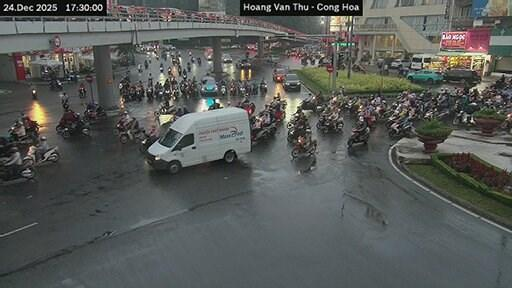motorbike: (0, 161, 35, 183), (22, 145, 57, 166), (291, 136, 315, 156), (60, 120, 89, 136), (348, 126, 368, 147), (252, 122, 275, 140), (118, 129, 144, 143), (387, 121, 410, 136), (287, 126, 307, 142), (316, 117, 342, 129), (138, 136, 156, 152), (236, 102, 255, 116), (451, 112, 473, 124), (83, 108, 105, 120), (384, 113, 399, 127), (112, 120, 125, 135), (501, 112, 511, 129), (48, 79, 60, 90), (77, 86, 85, 98), (146, 85, 152, 99), (67, 72, 76, 81), (259, 81, 265, 94), (230, 82, 236, 94), (220, 84, 226, 95), (61, 98, 67, 108), (167, 67, 172, 75), (137, 63, 141, 72), (186, 64, 191, 71), (32, 89, 35, 99), (198, 57, 201, 64), (160, 66, 163, 72)
